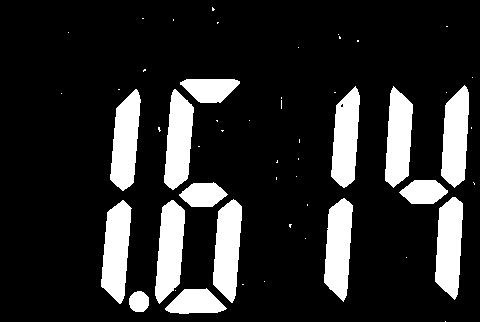1: (97, 89, 143, 313), (319, 86, 363, 304)
4: (383, 82, 471, 302)
6: (153, 77, 249, 317)
dot: (128, 288, 150, 313)
